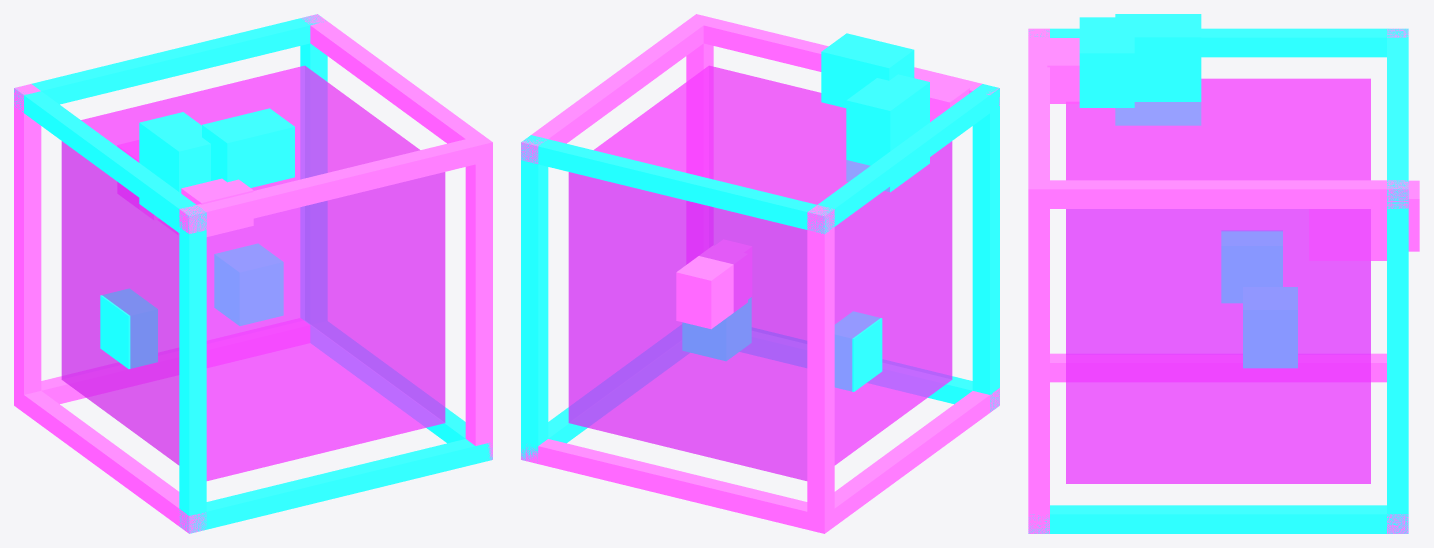
File: packet.glb
3 renders of one model, left to right at view 1: azimuth 30°, elevation 25°; view 2: azimuth 150°, elevation 25°; view 3: azimuth 270°, elevation 25°, orthographic. The views are drawn at different scales.
Parts seen in each view (by area): view 1: core, frame (×2), glitch (×2); view 2: core, frame (×2), glitch (×2); view 3: core, frame (×2), glitch (×2).
Part boxes in pixels (x1,y1,x2,y2): core: [61, 65, 445, 480]; frame (×2): [14, 14, 492, 533]; glitch (×2): [100, 108, 294, 368]; core: [568, 65, 952, 480]; frame (×2): [521, 14, 999, 533]; glitch (×2): [676, 33, 969, 391]; core: [1066, 78, 1370, 483]; frame (×2): [1028, 28, 1408, 533]; glitch (×2): [1047, 14, 1419, 368].
Bounding box in the file's own units: 2.12 × 2.39 × 2.18.
